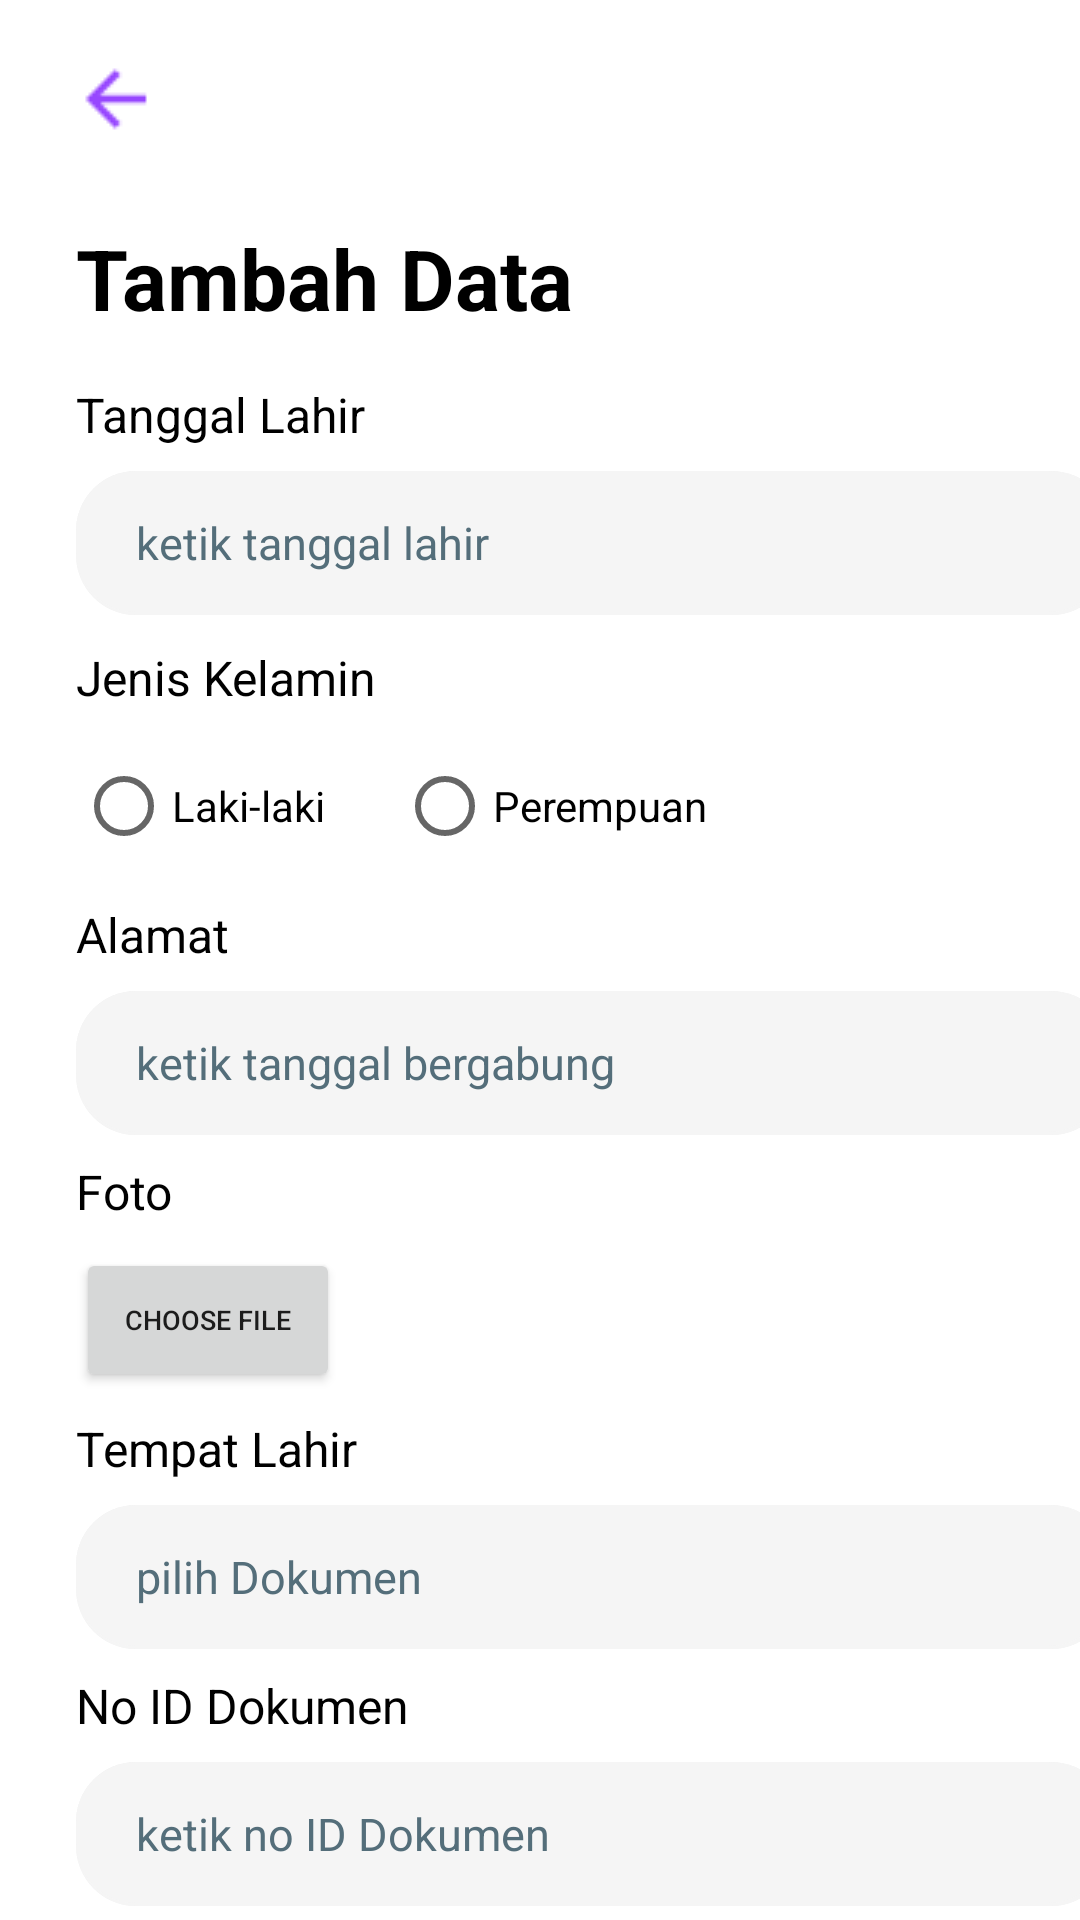

Locate icon controls on the screen. Image size 1080 x 1920, boxes as {"x1": x1, "y1": y1, "x2": x2, "y2": y2}.
arrow left: {"x1": 85, "y1": 68, "x2": 147, "y2": 130}
